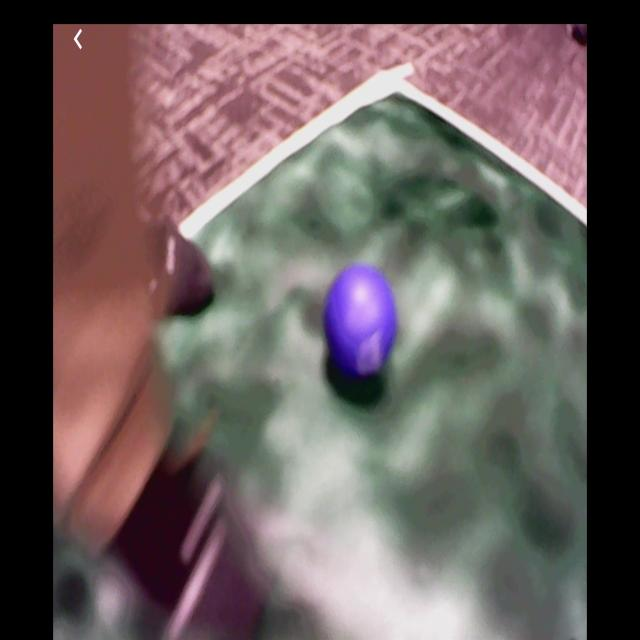ball: (325, 261, 398, 382)
